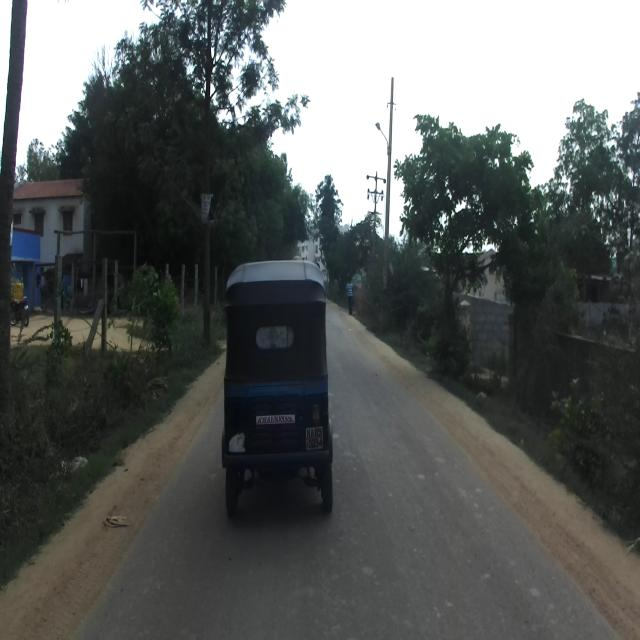auto ahead at: (224, 246, 338, 527)
